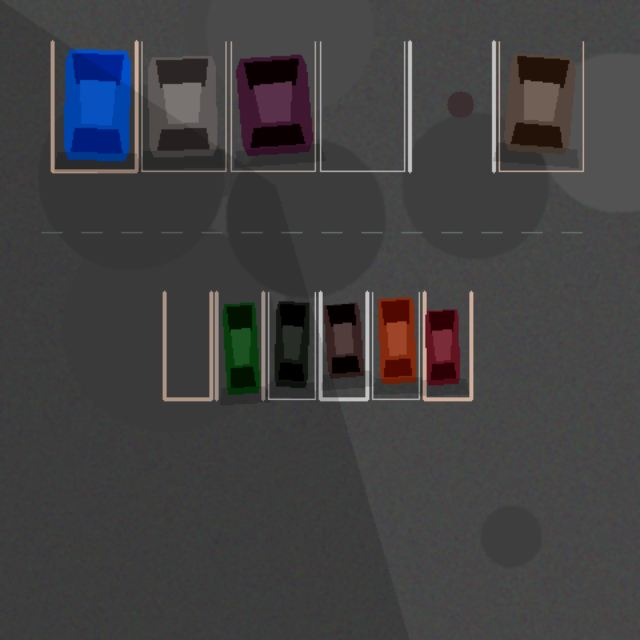space-empty: (320, 41, 404, 171), (409, 41, 493, 171), (164, 292, 211, 399)
space-occupied: (52, 41, 136, 171), (141, 41, 225, 171), (231, 41, 315, 171), (499, 41, 583, 171), (216, 292, 263, 399), (268, 292, 315, 399), (320, 292, 367, 399), (372, 292, 419, 399), (424, 292, 471, 399)
